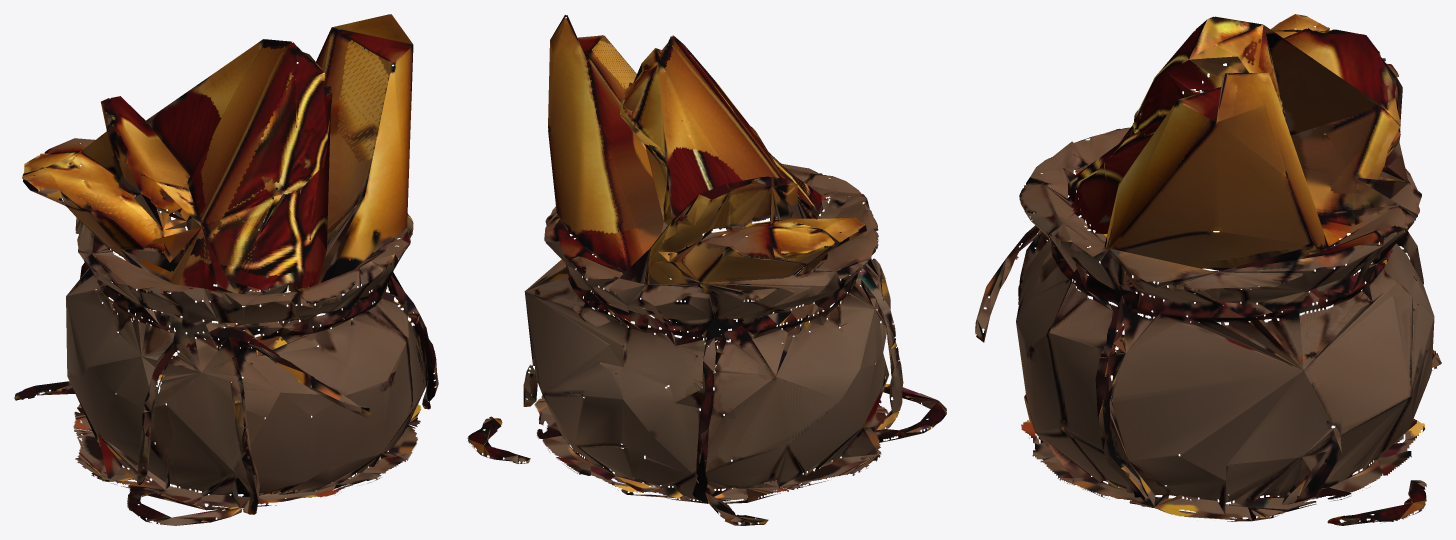
The model's file is Rations.glb.
The picture shows the model from 3 angles, left to right: view 1: azimuth 30°, elevation 25°; view 2: azimuth 150°, elevation 25°; view 3: azimuth 270°, elevation 25°; orthographic projection. The views are drawn at different scales.
Visible parts, largest first — view 1: temp_mesh.ply; view 2: temp_mesh.ply; view 3: temp_mesh.ply.
Part boxes in pixels (<box>): temp_mesh.ply: <box>14,14,438,525</box>; temp_mesh.ply: <box>467,15,946,525</box>; temp_mesh.ply: <box>975,14,1441,525</box>.
Bounding box in the file's own units: 0.1946 × 0.2 × 0.1906.
1 material, 1 textured.
